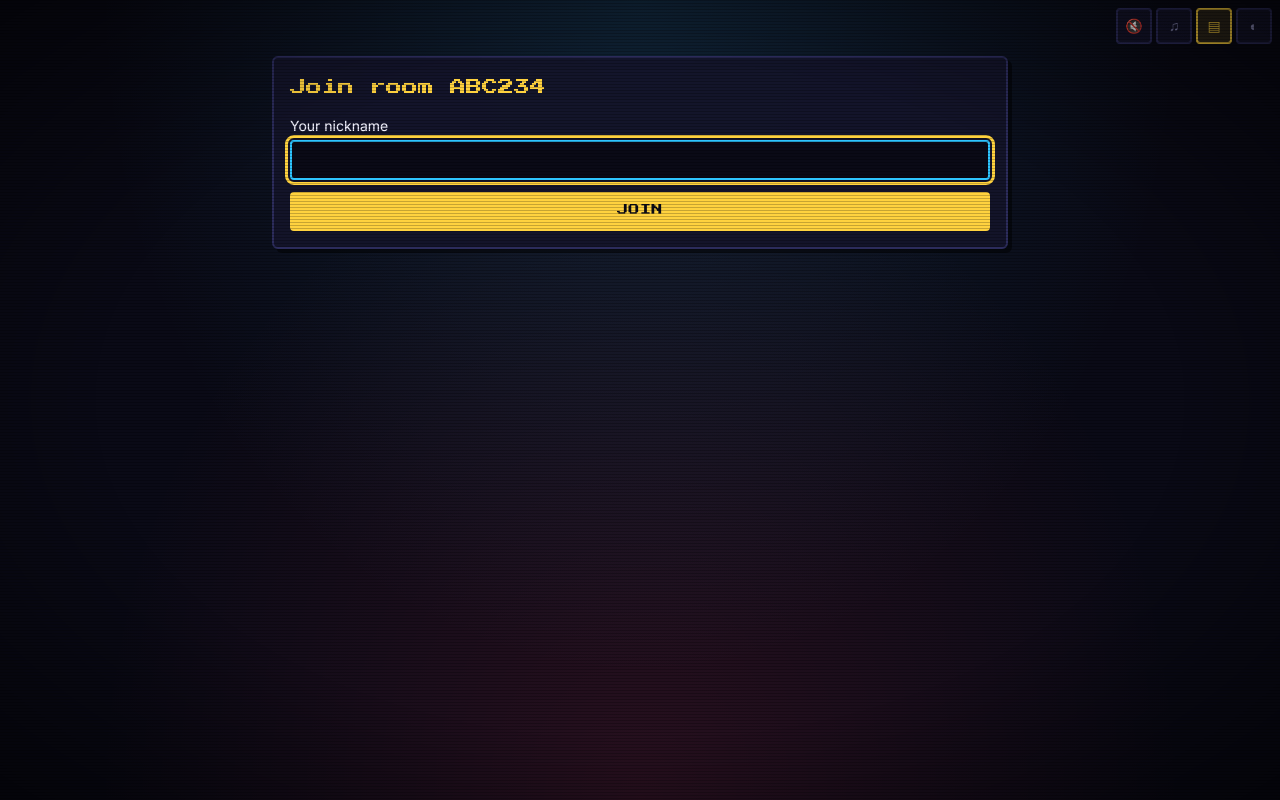
joining › shows why joining failed
The width and height of the screenshot is (1280, 800).
Type "Sam" into the field labelled "Your nickname".
click(640, 160); type("Sam")  # box [290,140,990,180]
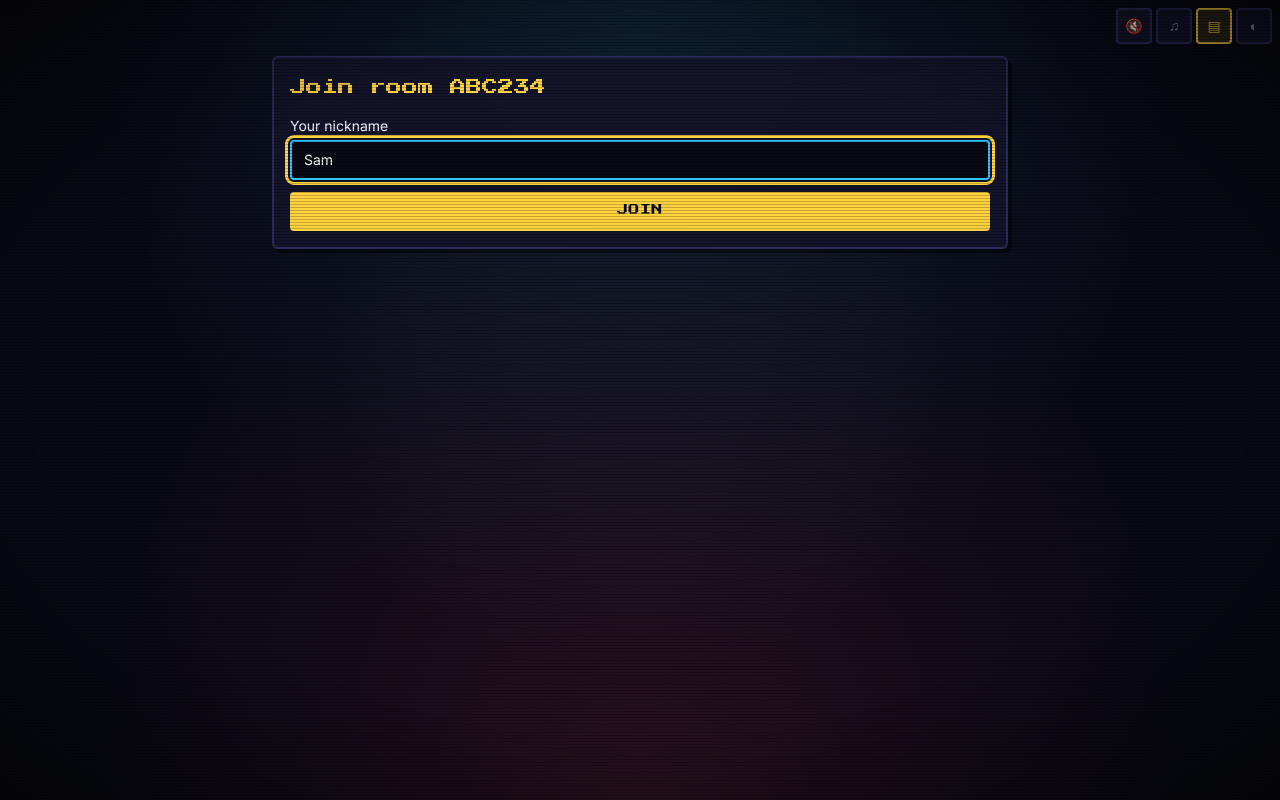
Click the button "Join".
click(640, 211)  # box [290,192,990,230]
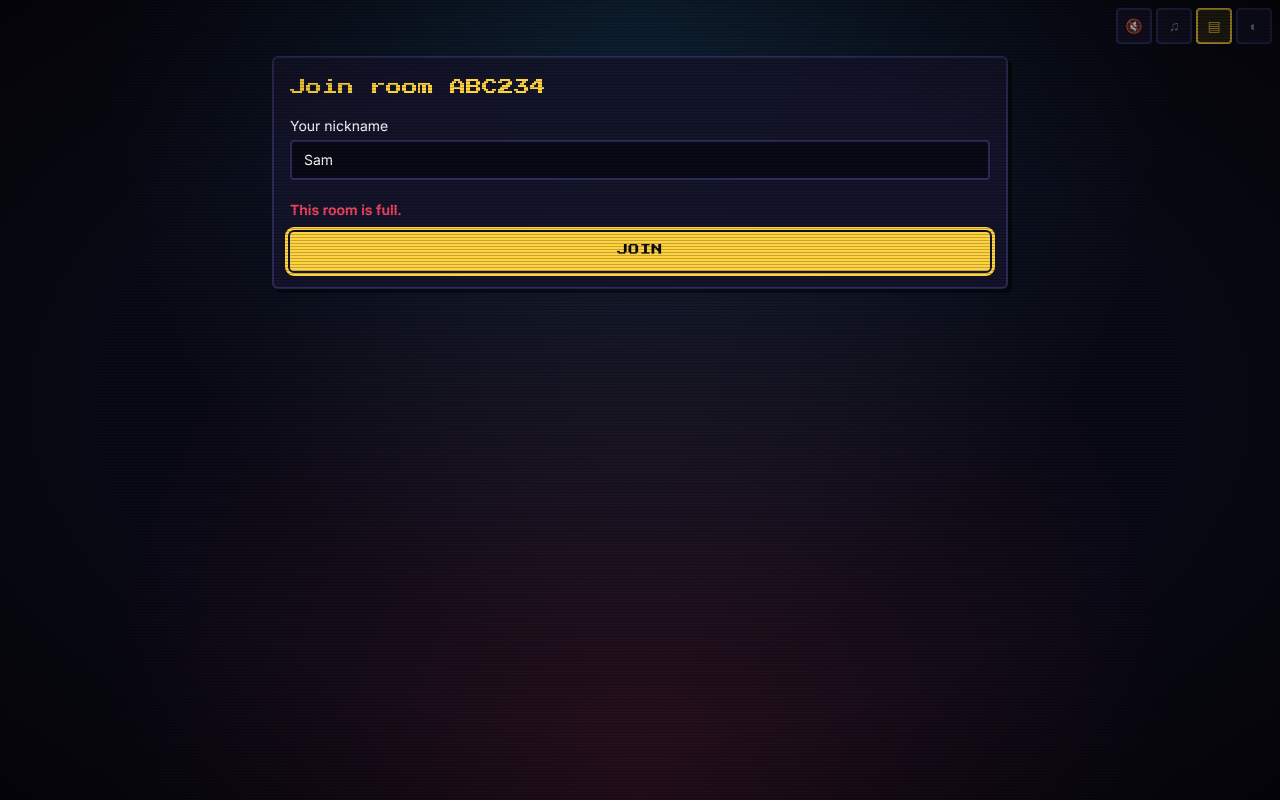
expect the message reads "This room is full.": met, box [290,201,402,218]
